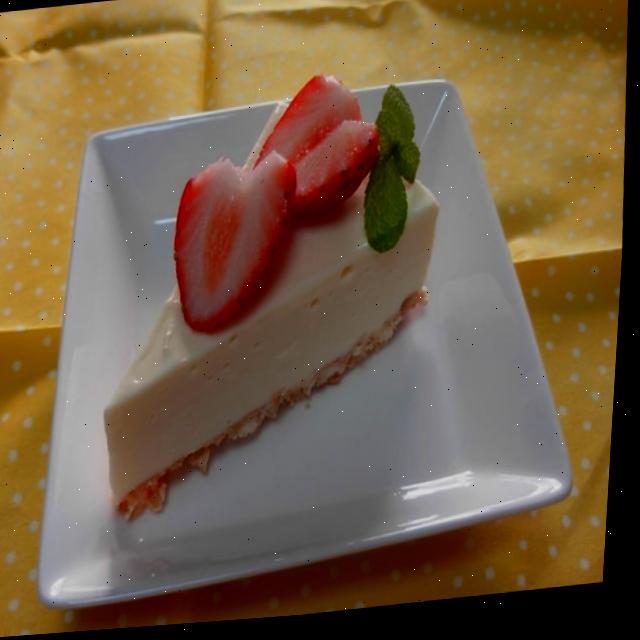蛋糕甜品: (0, 17, 613, 627)
